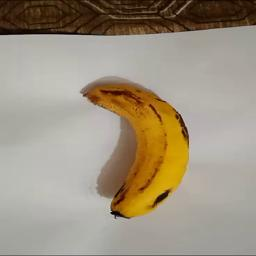Banana Semifresh: (81, 83, 190, 221)
